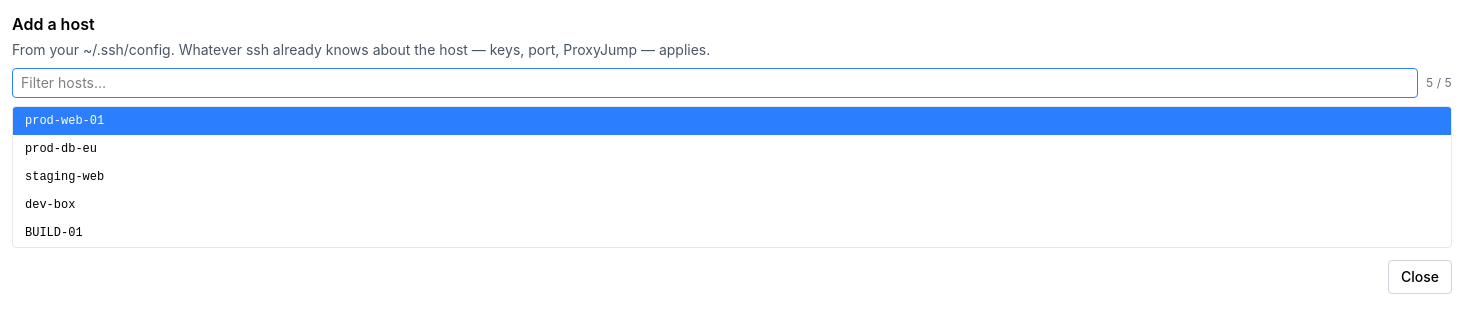
Scenario: AddRemoteDialog › narrows as you type and says how many are left
The image size is (1464, 311).
Type "prod" into the field with placeholder "Filter hosts…".
click(715, 83); type("prod")  # box [12,68,1418,98]
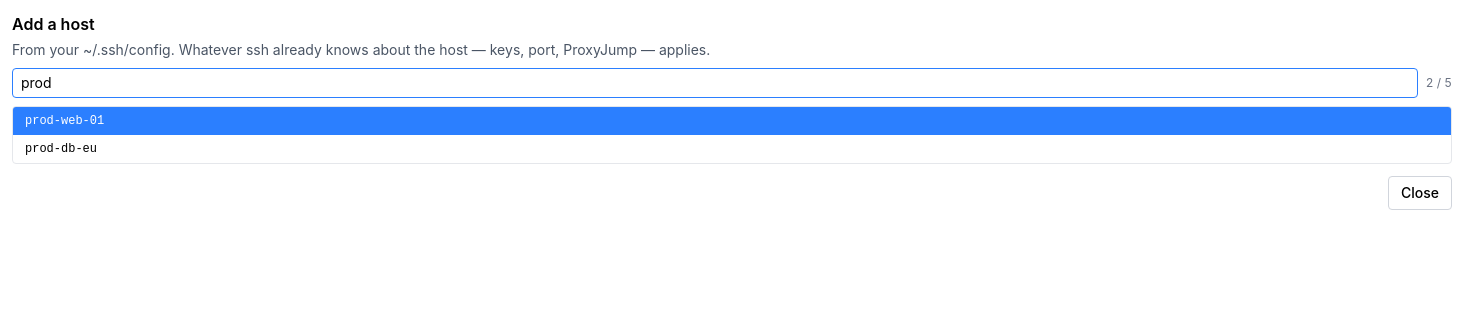
Result: the number of options is 2 at [13,107,1451,135]; [13,135,1451,163]
Result: the text "2 / 5" is shown at [1426,75,1452,91]
